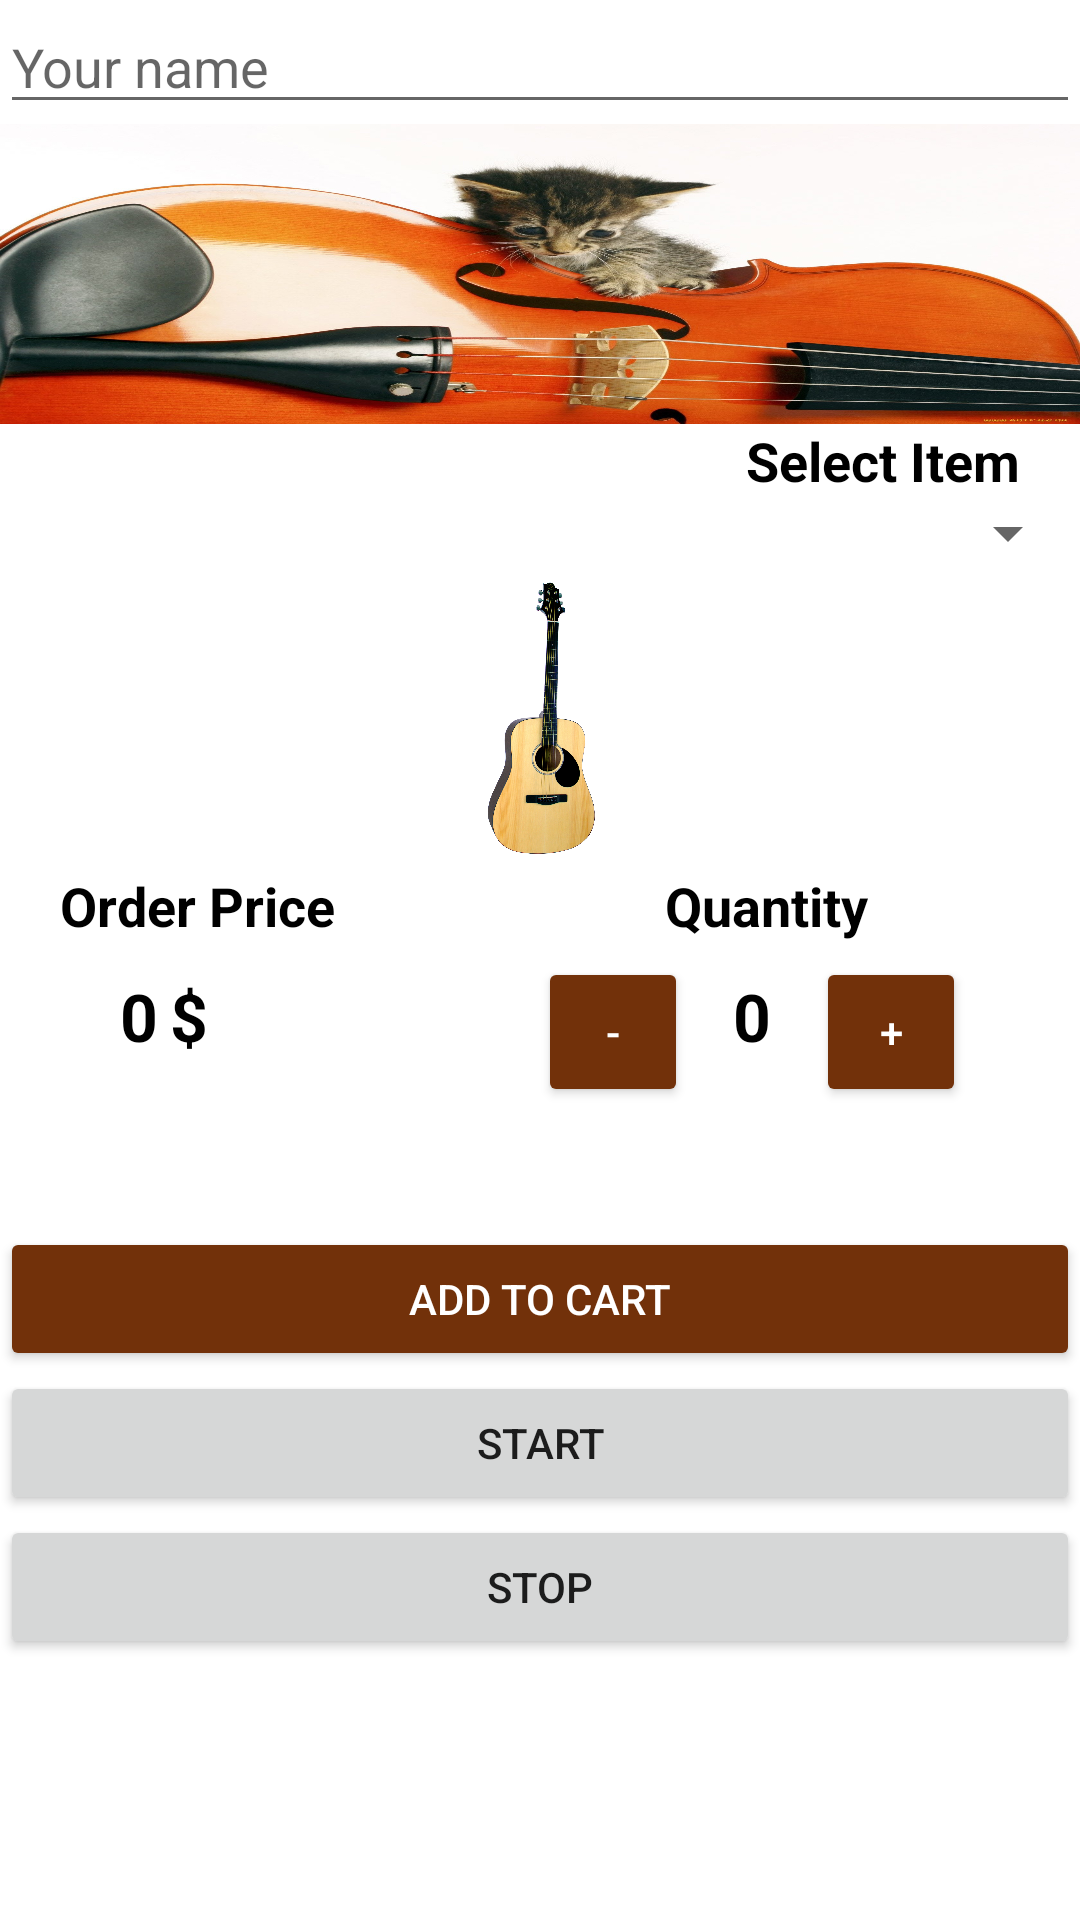

Locate icon controls on the screen. Image size 1080px×1920px, boxes as (x1, y1, x2, y2).
guitar: (488, 582, 595, 854)
